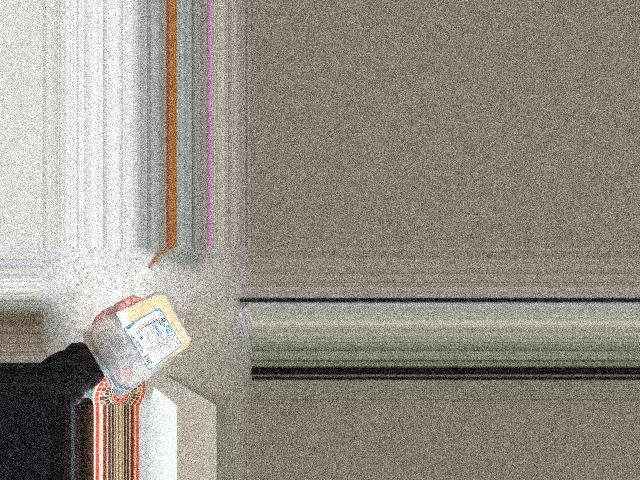cheese: (92, 299, 194, 388)
